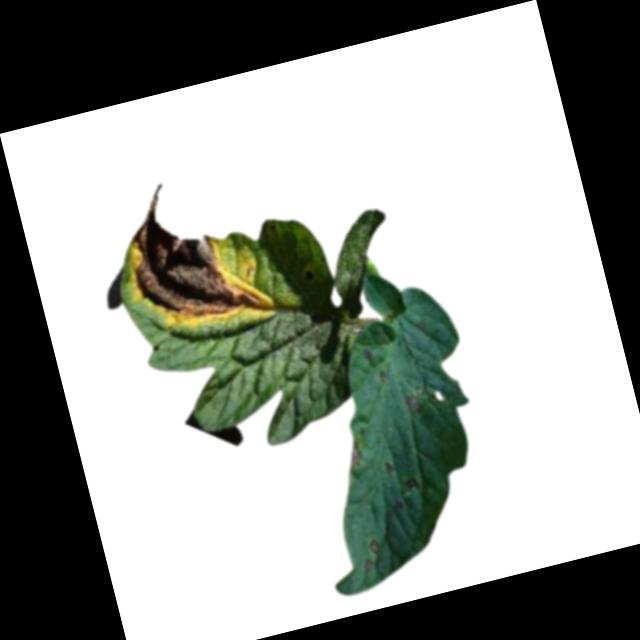Early_blight: (113, 162, 284, 346), (403, 389, 426, 416), (345, 443, 365, 466), (367, 536, 385, 555), (403, 473, 420, 492), (360, 344, 373, 361), (364, 558, 378, 571)
